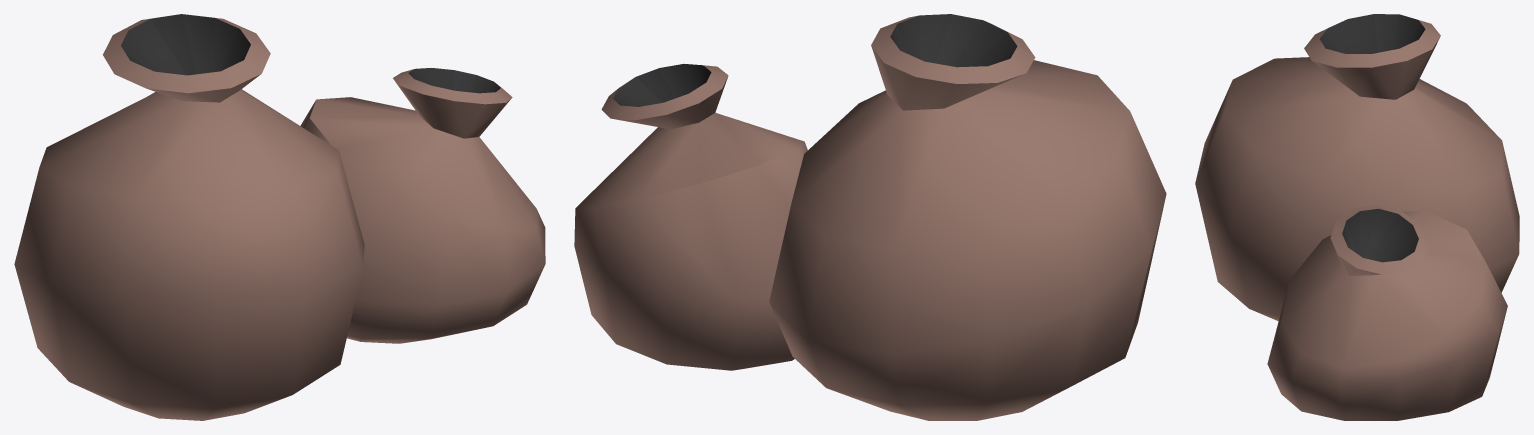
Rendered from jug_002.glb.
The picture shows the model from 3 angles, left to right: view 1: azimuth 30°, elevation 25°; view 2: azimuth 150°, elevation 25°; view 3: azimuth 270°, elevation 25°; orthographic projection. The views are drawn at different scales.
Visible parts, largest first — view 1: jug_002; view 2: jug_002; view 3: jug_002.
Boxes of the visible parts, left/top/right/bottom form: jug_002: left=14, top=14, right=545, bottom=420; jug_002: left=574, top=14, right=1166, bottom=420; jug_002: left=1195, top=14, right=1519, bottom=420.
Size of the model in its own units: 0.8036 by 0.5142 by 0.5334.
1 material, 1 textured.
